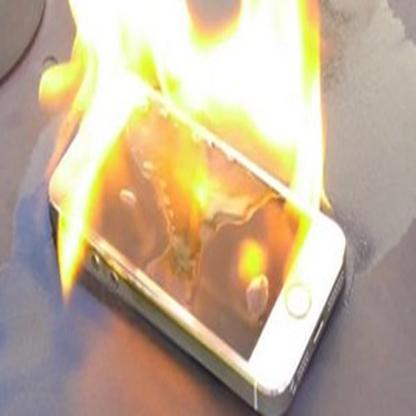fire: (44, 2, 331, 309)
